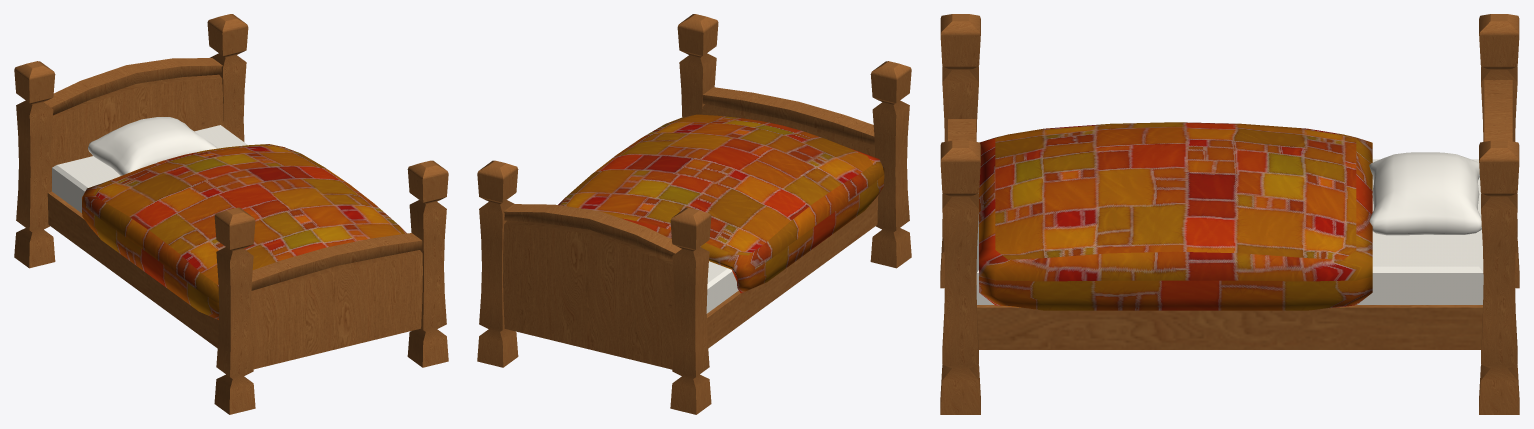
The model's file is bed.fbx.
The picture shows the model from 3 angles, left to right: view 1: azimuth 30°, elevation 25°; view 2: azimuth 150°, elevation 25°; view 3: azimuth 270°, elevation 25°; orthographic projection. The views are drawn at different scales.
Parts seen in each view (by area): view 1: pCube28, pCube7, pCube11, pCube36, pCube35, pCube8, pCube30, pCube13, pCube34, pCube12; view 2: pCube28, pCube11, pCube35, pCube36, pCube34, pCube7, pCube30, pCube8, pCube12; view 3: pCube28, pCube30, pCube34, pCube8, pCube13, pCube12, pCube36, pCube35, pCube11, pCube7.
Part boxes in pixels (x1=…): pCube28: x1=82, y1=144, x2=406, y2=319; pCube7: x1=250, y1=233, x2=422, y2=369; pCube11: x1=44, y1=58, x2=223, y2=191; pCube36: x1=214, y1=207, x2=255, y2=414; pCube35: x1=14, y1=61, x2=55, y2=268; pCube8: x1=407, y1=160, x2=448, y2=367; pCube30: x1=47, y1=191, x2=218, y2=348; pCube13: x1=88, y1=117, x2=217, y2=175; pCube34: x1=207, y1=14, x2=248, y2=141; pCube12: x1=52, y1=125, x2=247, y2=212; pCube28: x1=558, y1=114, x2=884, y2=293; pCube11: x1=503, y1=204, x2=681, y2=369; pCube35: x1=670, y1=207, x2=711, y2=414; pCube36: x1=870, y1=61, x2=911, y2=268; pCube34: x1=477, y1=160, x2=518, y2=367; pCube7: x1=702, y1=87, x2=874, y2=157; pCube30: x1=707, y1=195, x2=878, y2=348; pCube8: x1=677, y1=14, x2=718, y2=117; pCube12: x1=706, y1=261, x2=738, y2=313; pCube28: x1=979, y1=122, x2=1372, y2=310; pCube30: x1=976, y1=274, x2=1482, y2=349; pCube34: x1=1479, y1=140, x2=1519, y2=414; pCube8: x1=940, y1=140, x2=980, y2=414; pCube13: x1=1369, y1=152, x2=1481, y2=235; pCube12: x1=976, y1=159, x2=1483, y2=304; pCube36: x1=940, y1=14, x2=980, y2=288; pCube35: x1=1479, y1=14, x2=1519, y2=288; pCube11: x1=1484, y1=80, x2=1512, y2=141; pCube7: x1=948, y1=119, x2=976, y2=141.
Size of the model in its own units: 1.46 by 1.24 by 2.49.
